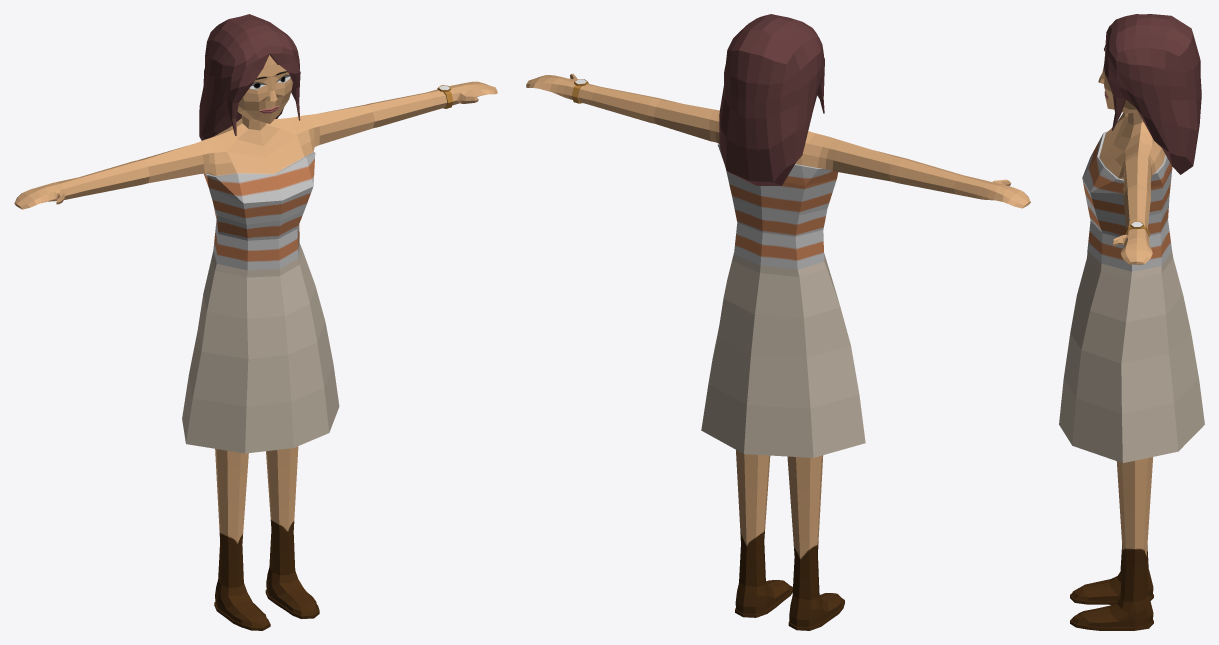
File: delh_char_04.fbx
3 renders of one model, left to right at view 1: azimuth 30°, elevation 25°; view 2: azimuth 150°, elevation 25°; view 3: azimuth 270°, elevation 25°, orthographic. The views are drawn at different scales.
Parts seen in each view (by area): view 1: delh_char_04; view 2: delh_char_04; view 3: delh_char_04.
Part boxes in pixels (bbox=[...]): delh_char_04: bbox=[14, 14, 497, 630]; delh_char_04: bbox=[526, 14, 1030, 630]; delh_char_04: bbox=[1059, 14, 1204, 630].
Bounding box in the file's own units: 154 × 177 × 39.44.
